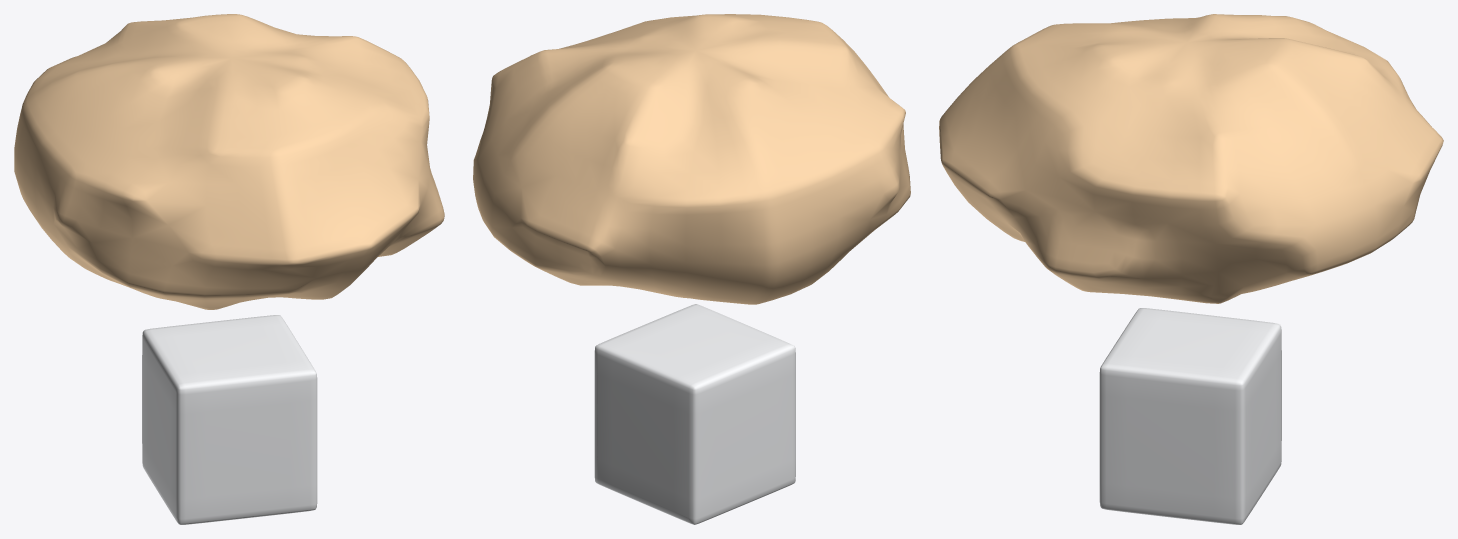
The model's file is PROP_Mushroom_v1.glb.
3 renders of one model, left to right at view 1: azimuth 30°, elevation 25°; view 2: azimuth 150°, elevation 25°; view 3: azimuth 270°, elevation 25°, orthographic. The views are drawn at different scales.
Visible parts, largest first — view 1: PROP_Mushroom_v1; view 2: PROP_Mushroom_v1; view 3: PROP_Mushroom_v1.
Boxes of the visible parts, x1,y1,x2,y2 form: PROP_Mushroom_v1: [14, 14, 444, 524]; PROP_Mushroom_v1: [473, 14, 910, 524]; PROP_Mushroom_v1: [939, 14, 1443, 524].
Bounding box in the file's own units: 2.8 × 3.12 × 3.16.
